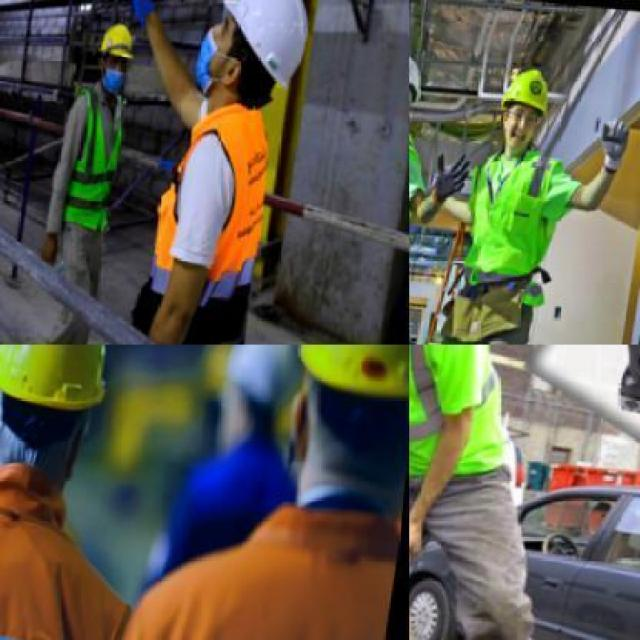vest: (135, 454, 408, 638), (141, 94, 294, 343), (0, 444, 151, 638), (409, 345, 545, 480), (457, 136, 563, 296), (71, 84, 143, 228), (409, 125, 434, 283)
